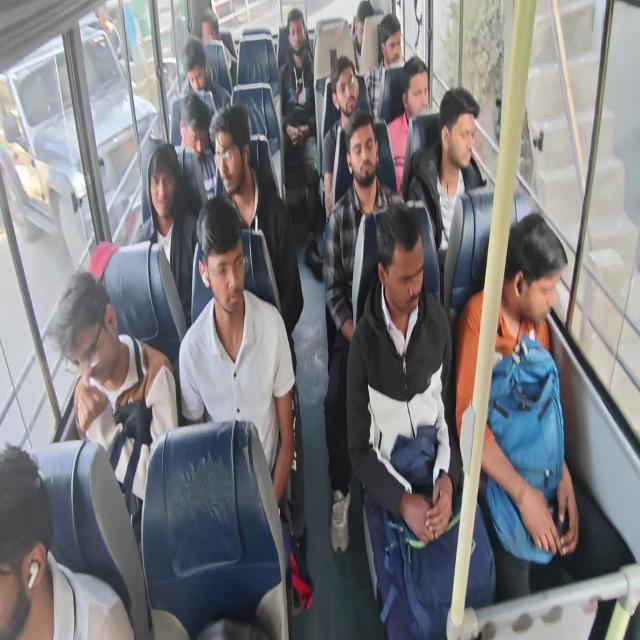person: (0, 447, 46, 624), (46, 290, 122, 391), (500, 228, 559, 328), (373, 215, 423, 312), (199, 234, 247, 310), (445, 88, 481, 180), (139, 155, 178, 224), (212, 121, 246, 196), (401, 66, 436, 124), (346, 124, 378, 187), (332, 66, 366, 123), (176, 112, 209, 162), (180, 46, 210, 100), (376, 21, 404, 72), (282, 16, 312, 56), (352, 0, 374, 52), (196, 12, 222, 51)
